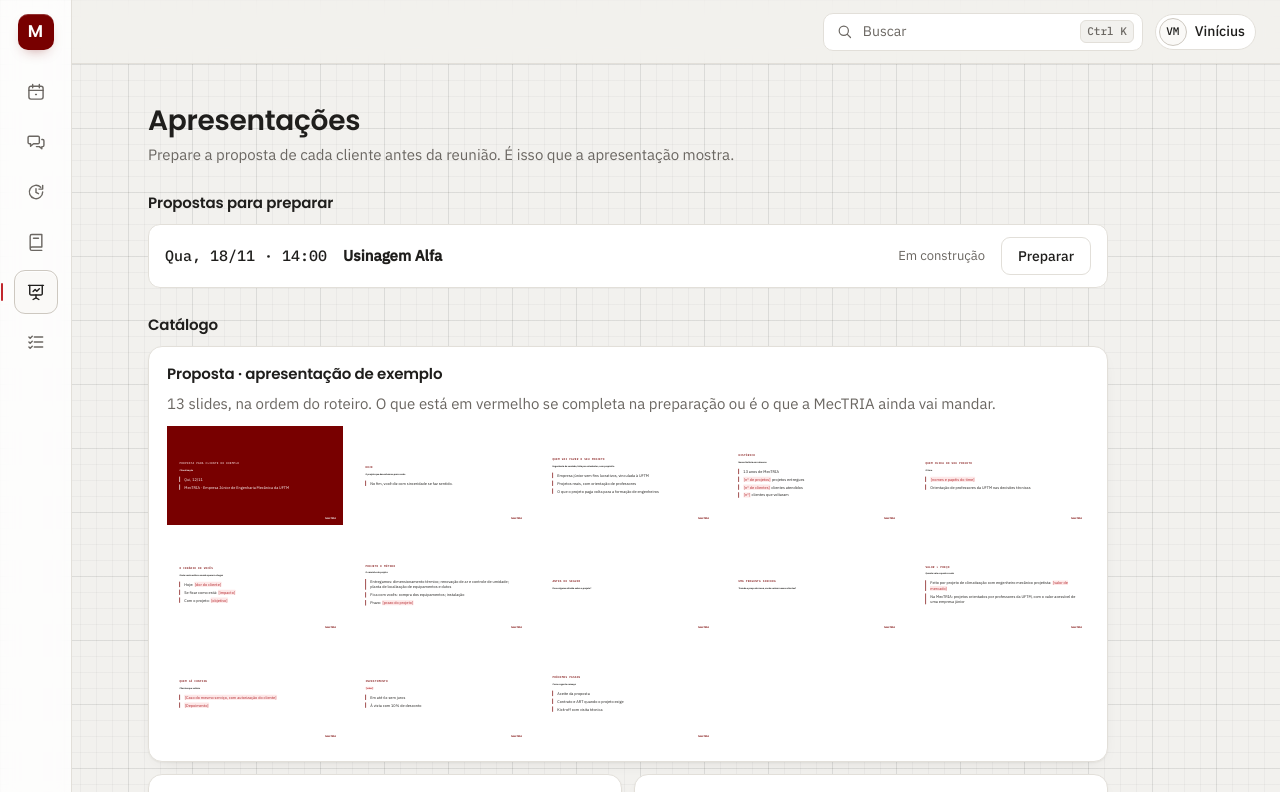
lista as propostas para preparar e abre o foco com as variáveis
The width and height of the screenshot is (1280, 792).
Click the button "Preparar": point(1046, 256) [1001,237,1091,275]
(page scrolled)
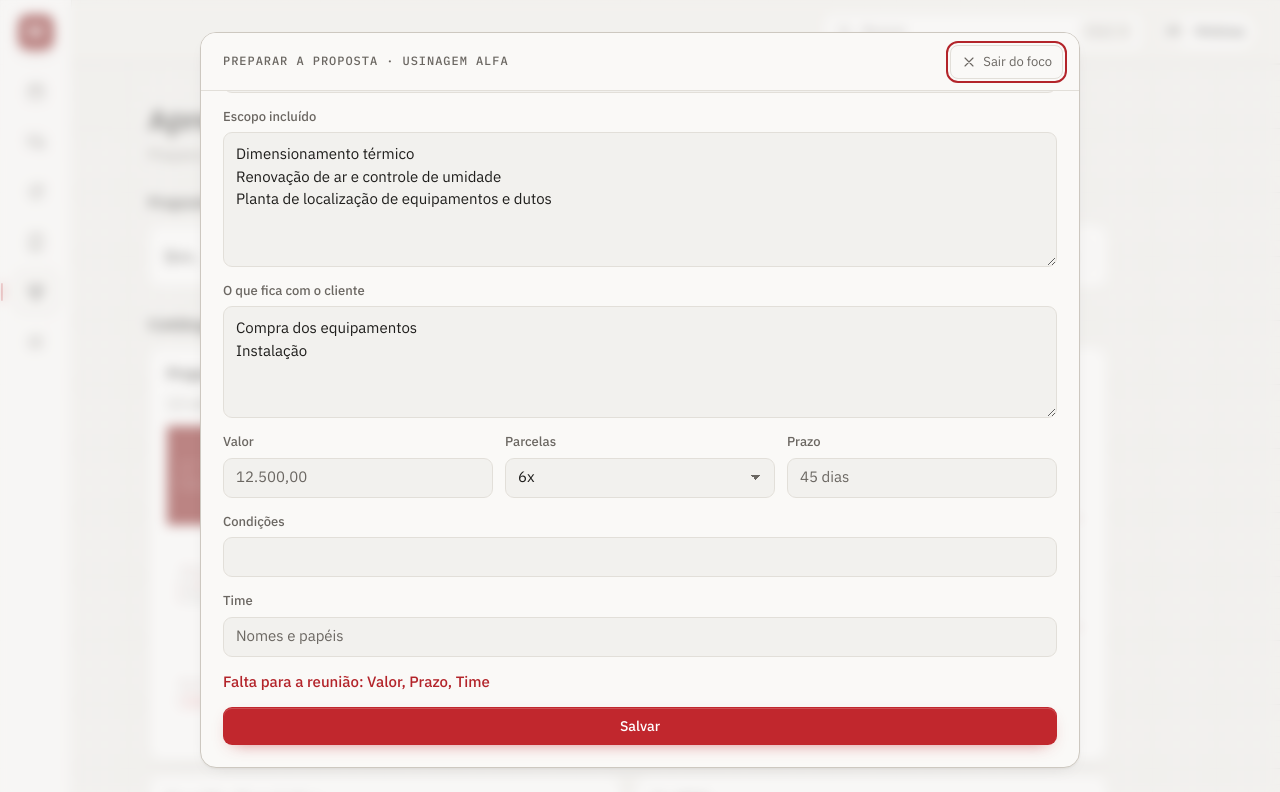
Expected: the text "Falta para a reunião: Valor, Prazo, Time" is shown, [223,672,490,690]
